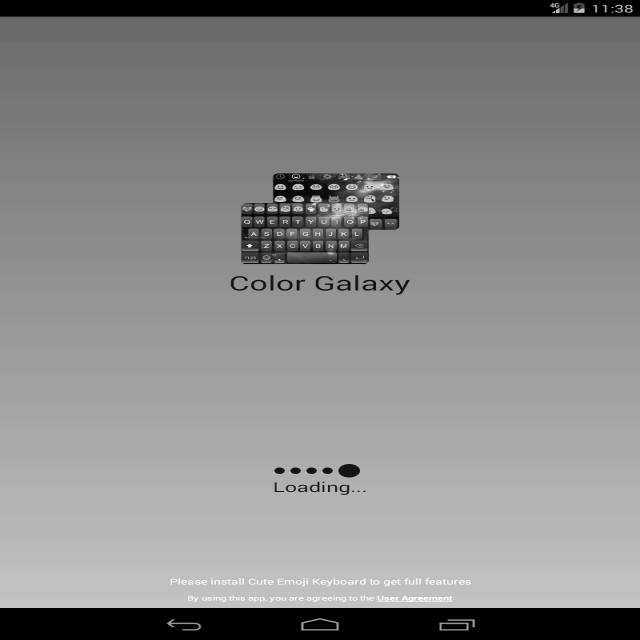ImageView: (230, 170, 408, 264)
TextView: (227, 273, 426, 298), (266, 481, 371, 497)
